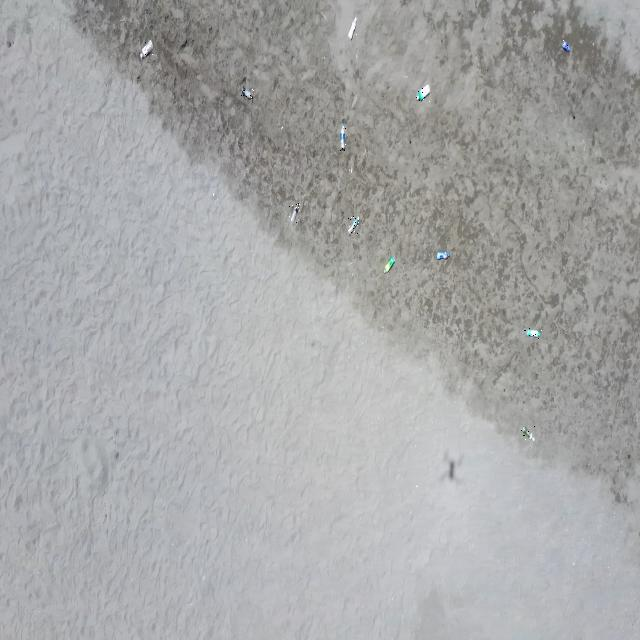Garbage: (440, 452, 462, 480), (347, 216, 360, 233), (289, 201, 300, 221), (140, 40, 151, 59), (416, 83, 428, 100), (347, 16, 355, 39), (520, 426, 533, 440), (340, 120, 346, 150), (384, 256, 395, 272), (240, 85, 252, 99), (435, 249, 449, 259), (524, 328, 540, 336), (560, 40, 571, 51), (532, 426, 533, 427)
